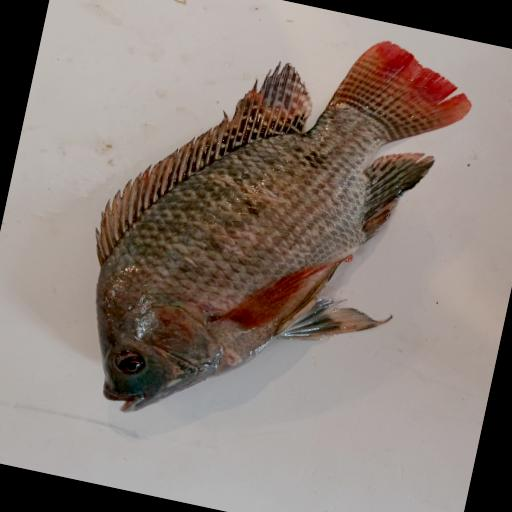Tilapia: (59, 0, 482, 469)
